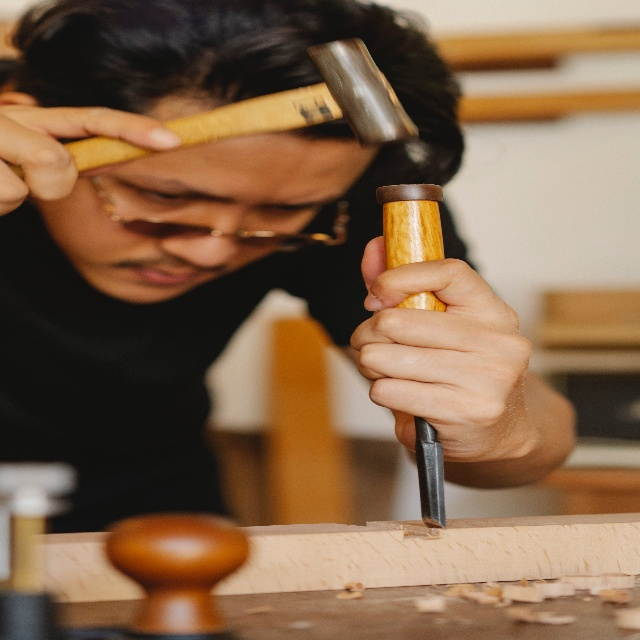Gafas: (89, 170, 349, 251)
Sin_guantes: (350, 234, 537, 475), (0, 102, 185, 218)
